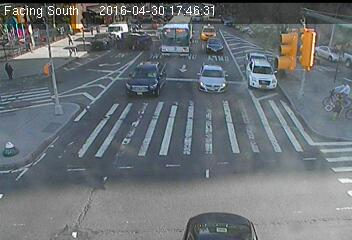neg: (35, 105, 63, 142), (328, 78, 351, 111), (325, 95, 346, 123), (62, 147, 80, 171), (176, 149, 189, 166), (107, 164, 120, 181), (191, 37, 201, 50), (44, 27, 54, 39), (127, 102, 135, 114), (148, 31, 156, 42), (60, 59, 66, 67), (128, 46, 133, 54), (109, 54, 113, 58)
pos: (1, 61, 15, 80), (65, 33, 75, 46), (89, 24, 96, 34), (95, 24, 101, 33)
